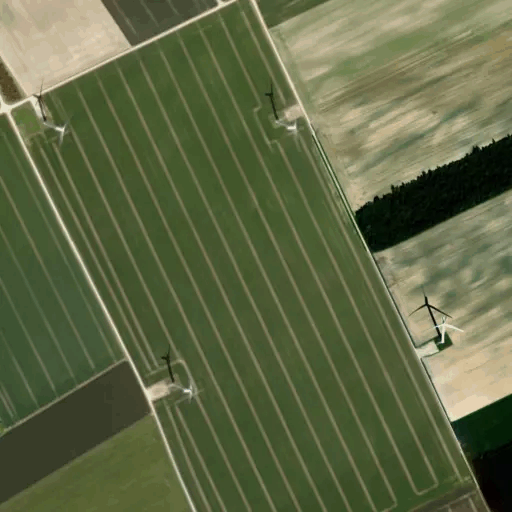wt: (251, 77, 317, 149), (26, 76, 85, 155), (148, 332, 203, 407), (406, 282, 461, 356)
